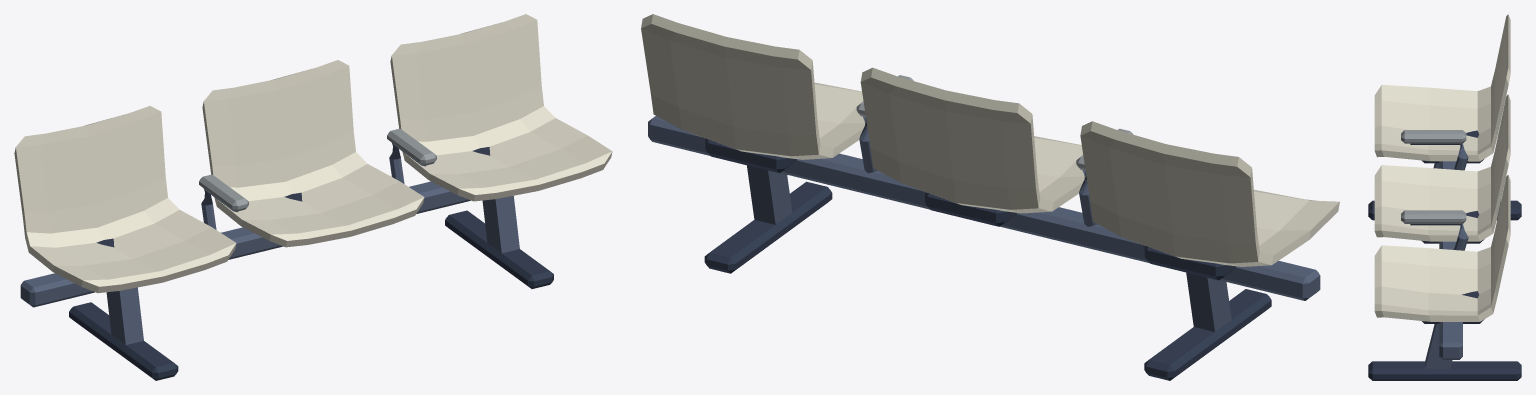
Rendered from bw_waiting_seats.glb.
The picture shows the model from 3 angles, left to right: view 1: azimuth 30°, elevation 25°; view 2: azimuth 150°, elevation 25°; view 3: azimuth 270°, elevation 25°; orthographic projection. The views are drawn at different scales.
Parts seen in each view (by area): view 1: moulded_bucket, arm_support, foot, armrest; view 2: moulded_bucket, arm_support, foot; view 3: moulded_bucket, foot, arm_support, armrest.
Boxes of the visible parts, box(x1,y1,x2,y2) form: moulded_bucket: box(14, 14, 612, 293); arm_support: box(20, 143, 519, 344); foot: box(69, 147, 553, 380); armrest: box(199, 128, 436, 211); moulded_bucket: box(641, 14, 1339, 266); arm_support: box(648, 116, 1320, 331); foot: box(704, 138, 1271, 380); moulded_bucket: box(1374, 14, 1510, 321); foot: box(1368, 130, 1521, 380); arm_support: box(1410, 143, 1468, 368); armrest: box(1401, 130, 1466, 223).
Bounding box in the file's own units: 2.8 × 0.95 × 0.75.
